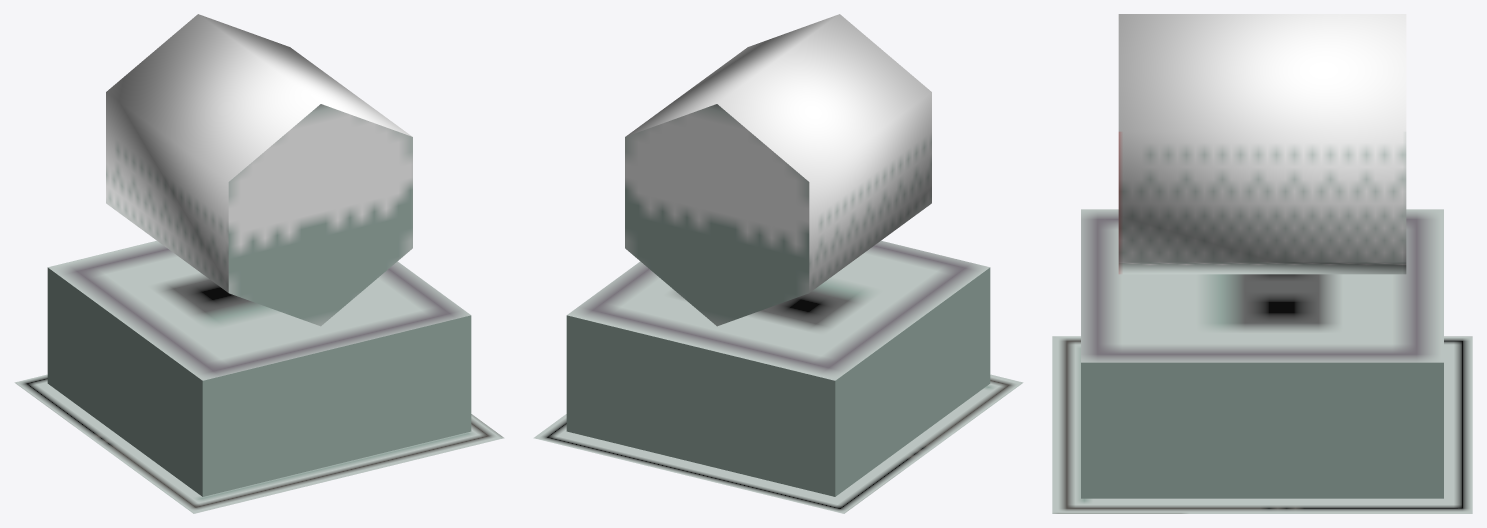
File: Bld_Oil_Refinery_Small.fbx
3 renders of one model, left to right at view 1: azimuth 30°, elevation 25°; view 2: azimuth 150°, elevation 25°; view 3: azimuth 270°, elevation 25°, orthographic. The views are drawn at different scales.
Parts seen in each view (by area): view 1: BLD_OilRefinery_Small; view 2: BLD_OilRefinery_Small; view 3: BLD_OilRefinery_Small.
Boxes of the visible parts, <box> form: BLD_OilRefinery_Small: <box>14,14,504,513</box>; BLD_OilRefinery_Small: <box>533,14,1023,513</box>; BLD_OilRefinery_Small: <box>1052,14,1472,513</box>.
Size of the model in its own units: 400 by 400 by 432.
